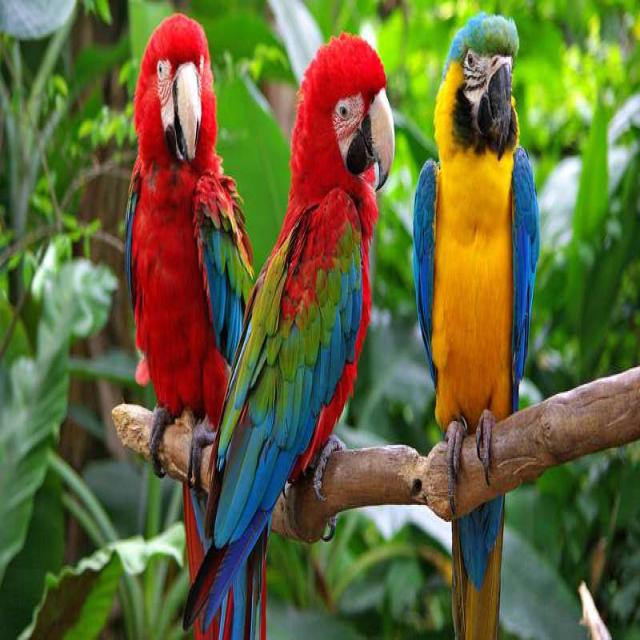Parrot: (210, 35, 394, 640), (410, 19, 540, 634), (124, 18, 252, 475)
